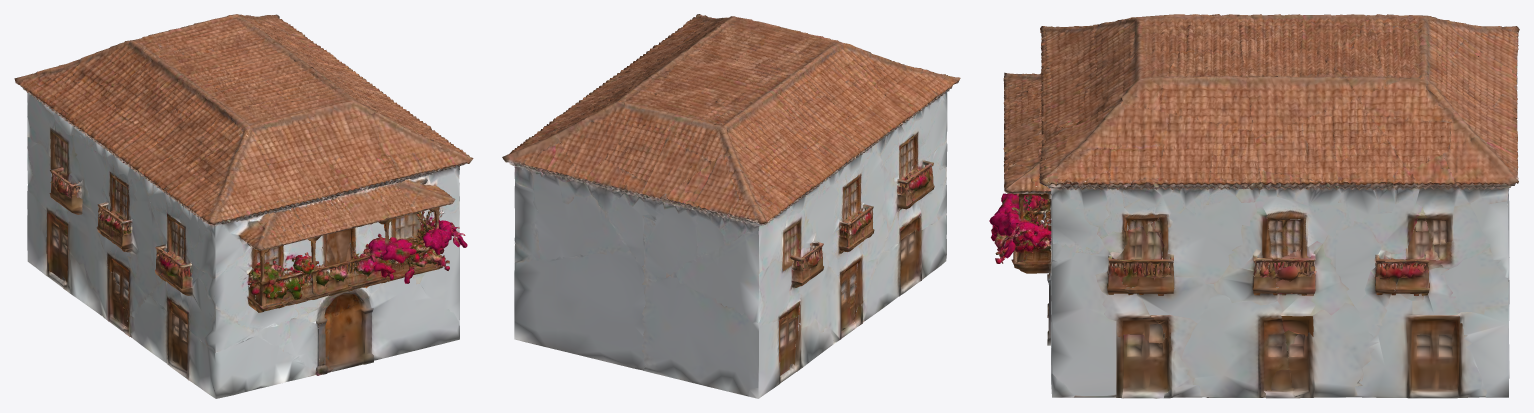
Rendered from casa.glb.
3 views of the same model, side by side, from view 1: azimuth 30°, elevation 25°; view 2: azimuth 150°, elevation 25°; view 3: azimuth 270°, elevation 25° (orthographic). The views are drawn at different scales.
Visible parts, largest first — view 1: Mesh_0; view 2: Mesh_0; view 3: Mesh_0.
Boxes of the visible parts, x1,y1,x2,y2 form: Mesh_0: [14, 14, 473, 398]; Mesh_0: [502, 14, 960, 398]; Mesh_0: [989, 14, 1519, 398].
Bounding box in the file's own units: 1.37 × 1.12 × 1.91.
1 material, 1 textured.
